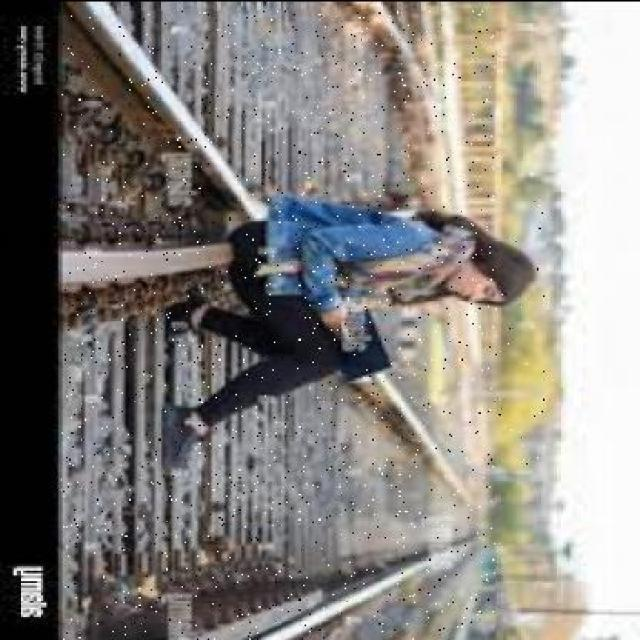danger: (152, 188, 546, 471)
rail: (60, 9, 495, 638)
